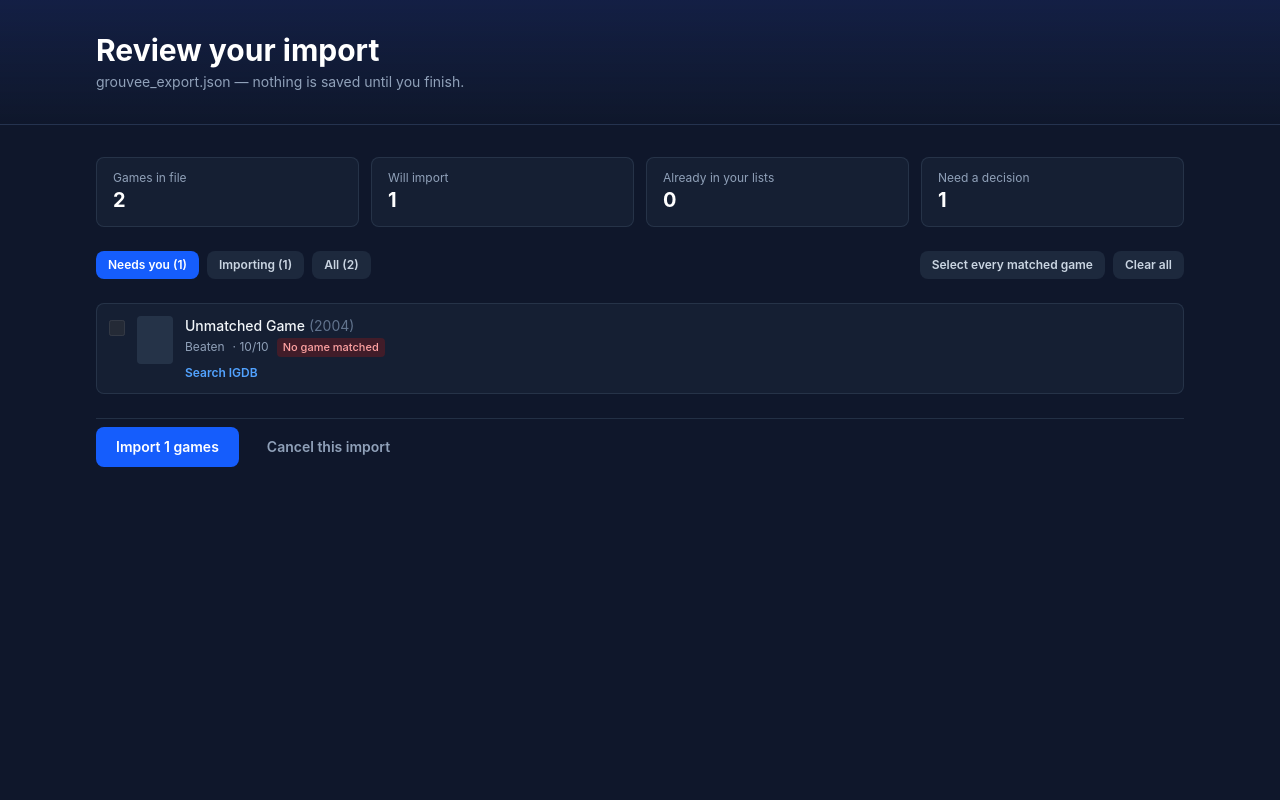
it: ImportReviewPage › opens on the rows that need a decision
Expected: the text "Unmatched Game" is shown, [185, 317, 305, 334]
Click the button "All (2)" at (341, 265), box [312, 251, 371, 279]
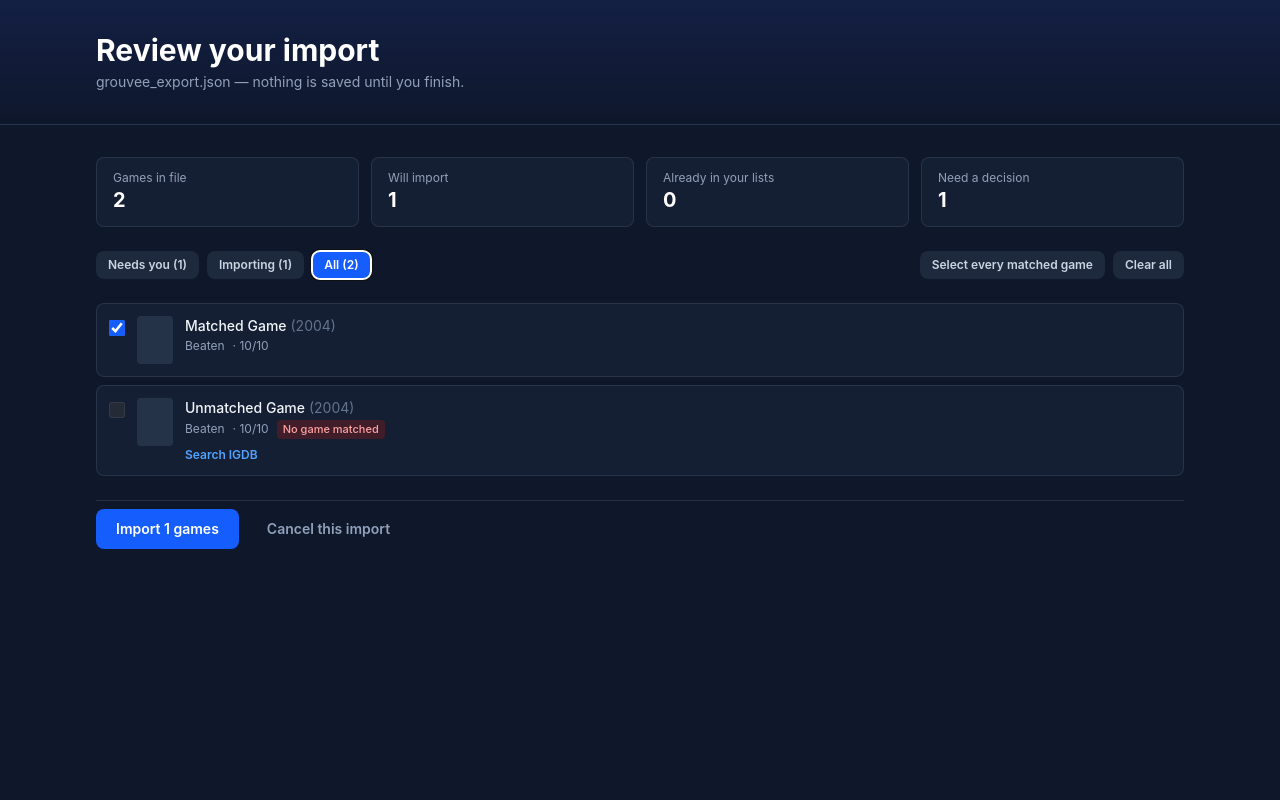
Expected: the text "Matched Game" is shown, [185, 317, 286, 334]
